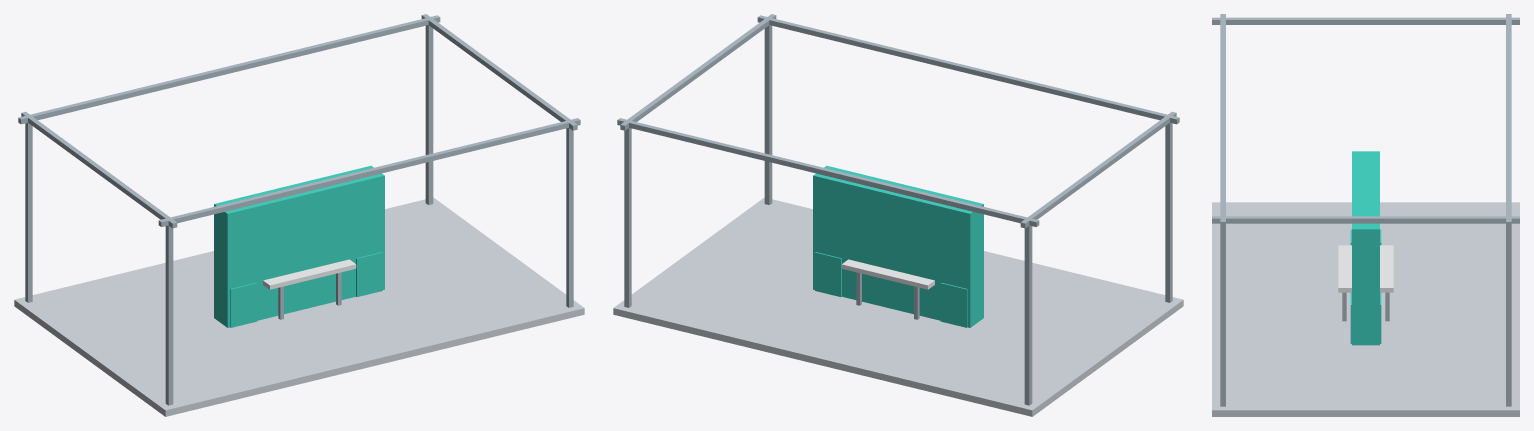
3 renders of one model, left to right at view 1: azimuth 30°, elevation 25°; view 2: azimuth 150°, elevation 25°; view 3: azimuth 270°, elevation 25°, orthographic.
Parts seen in each view (by area): view 1: Exhibition Booth Concept; view 2: Exhibition Booth Concept; view 3: Exhibition Booth Concept.
Boxes of the visible parts, x1=… form: Exhibition Booth Concept: x1=14, y1=14, x2=584, y2=416; Exhibition Booth Concept: x1=613, y1=14, x2=1183, y2=416; Exhibition Booth Concept: x1=1212, y1=14, x2=1519, y2=416.
Bounding box in the file's own units: 8 × 3.49 × 5.
